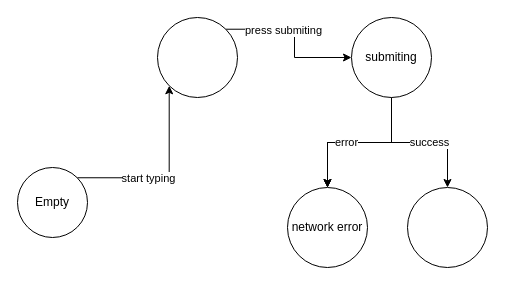
The diagram is 505 pixels wide and 285 high, and some of its shapes have lost their labels. The centre of each missing label's shape, as x and y in pixels:
network success: (x=447, y=227)
typing: (x=197, y=57)
